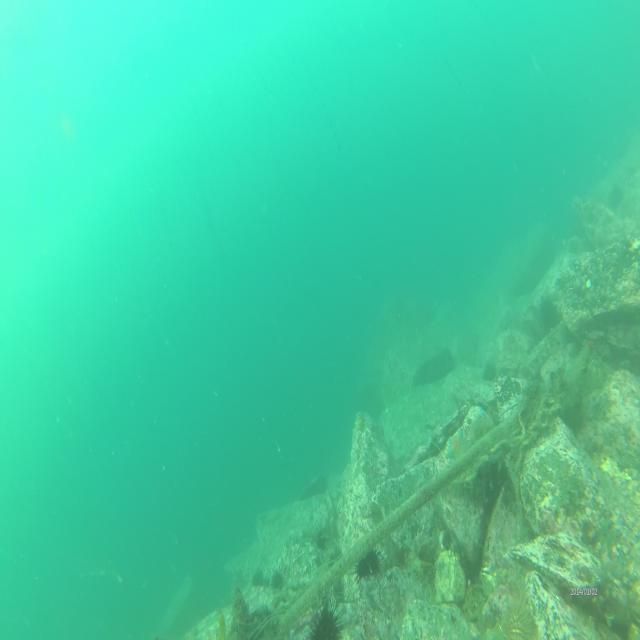echinus: (497, 587, 538, 640), (307, 596, 347, 640), (353, 548, 382, 586)
starfish: (446, 427, 470, 461)
